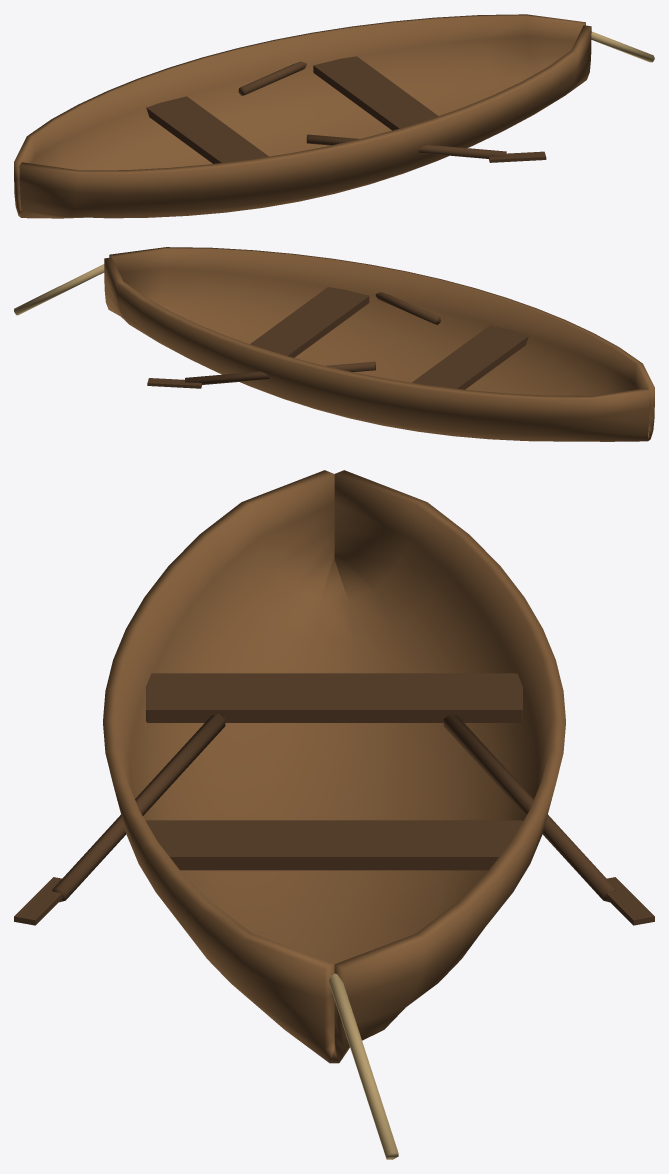
Rendered from ruderboot.glb.
The picture shows the model from 3 angles, top to bottom: view 1: azimuth 30°, elevation 25°; view 2: azimuth 150°, elevation 25°; view 3: azimuth 270°, elevation 25°; orthographic projection. The views are drawn at different scales.
Parts seen in each view (by area): view 1: rumpf; view 2: rumpf; view 3: rumpf.
Part boxes in pixels (left/top/right/bottom): rumpf: left=14, top=14, right=654, bottom=218; rumpf: left=14, top=247, right=654, bottom=441; rumpf: left=14, top=470, right=654, bottom=1159.
Bounding box in the file's own units: 4.65 × 0.5912 × 2.21.
